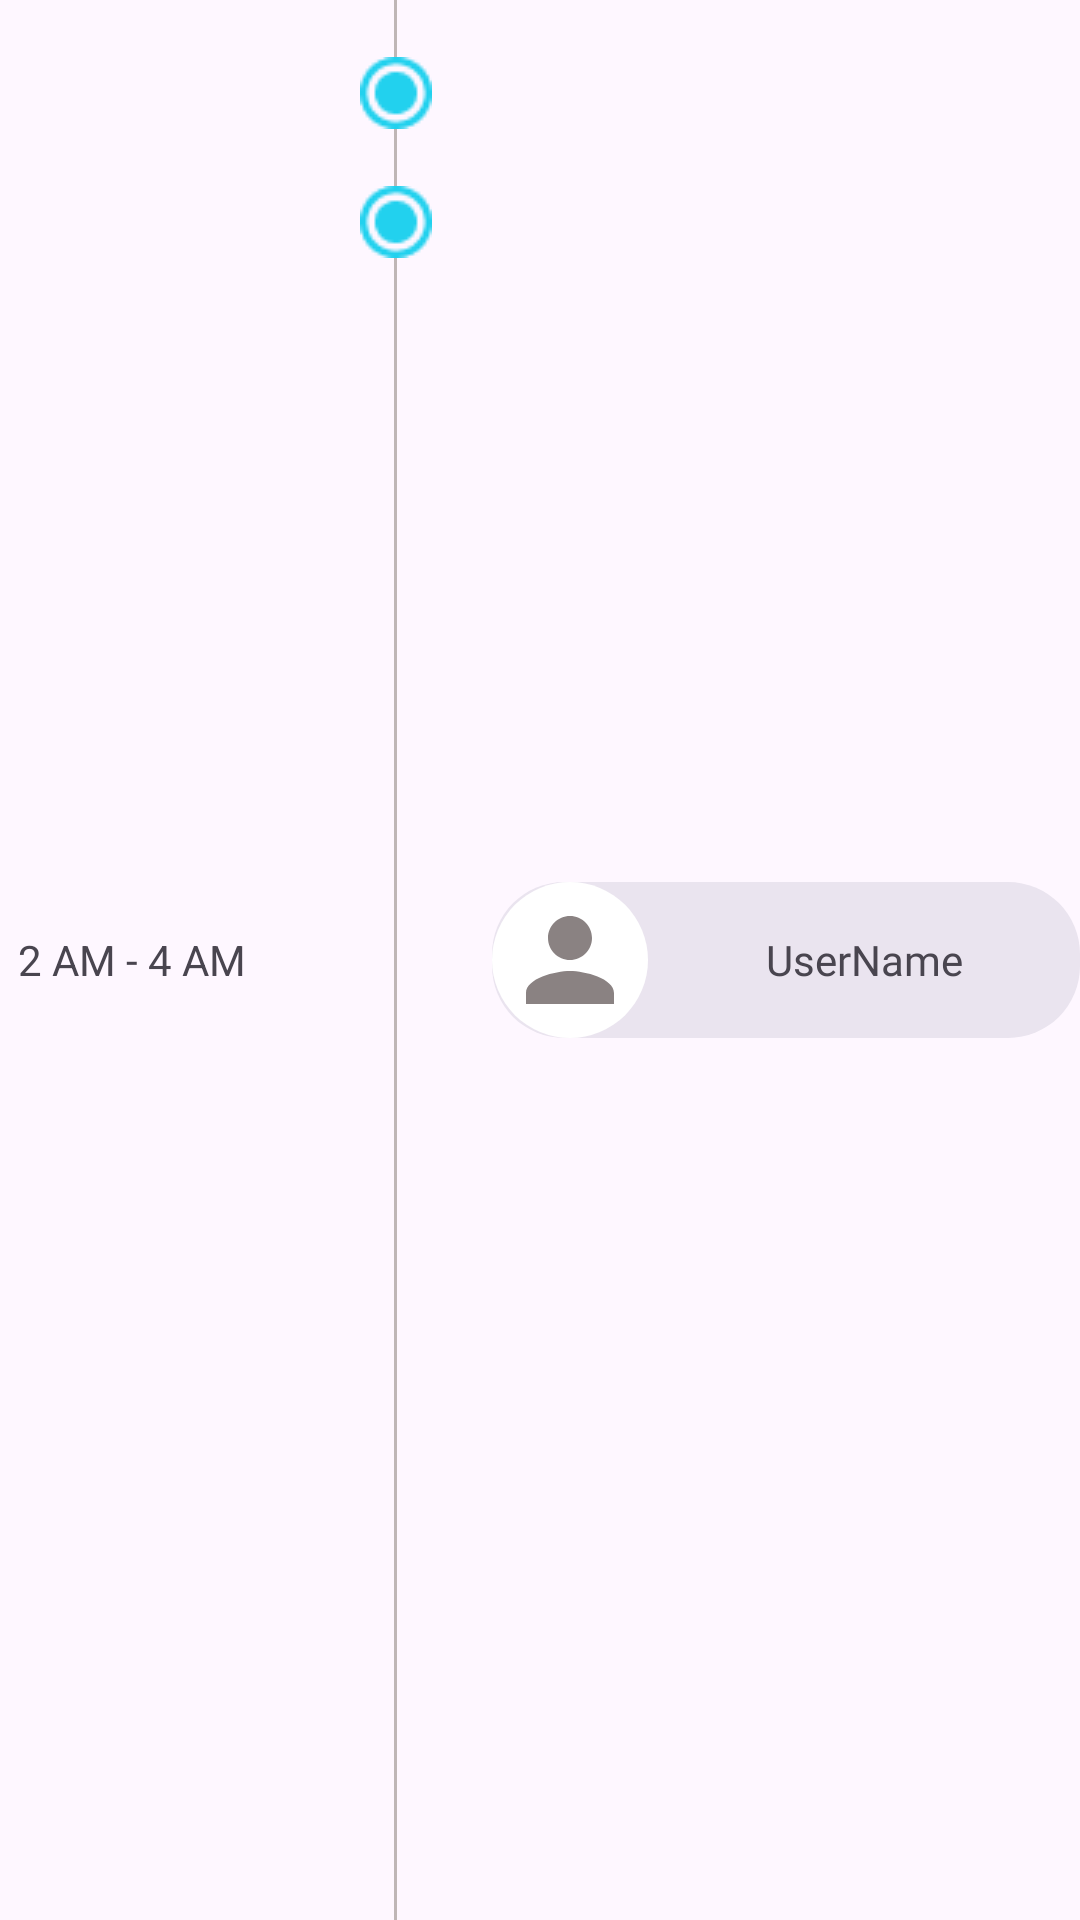

Icons on this 1080w x 1920h Android screen, each with the point to tap as point (x, y):
person: point (570, 960)
point: point (396, 93), point (396, 222)
